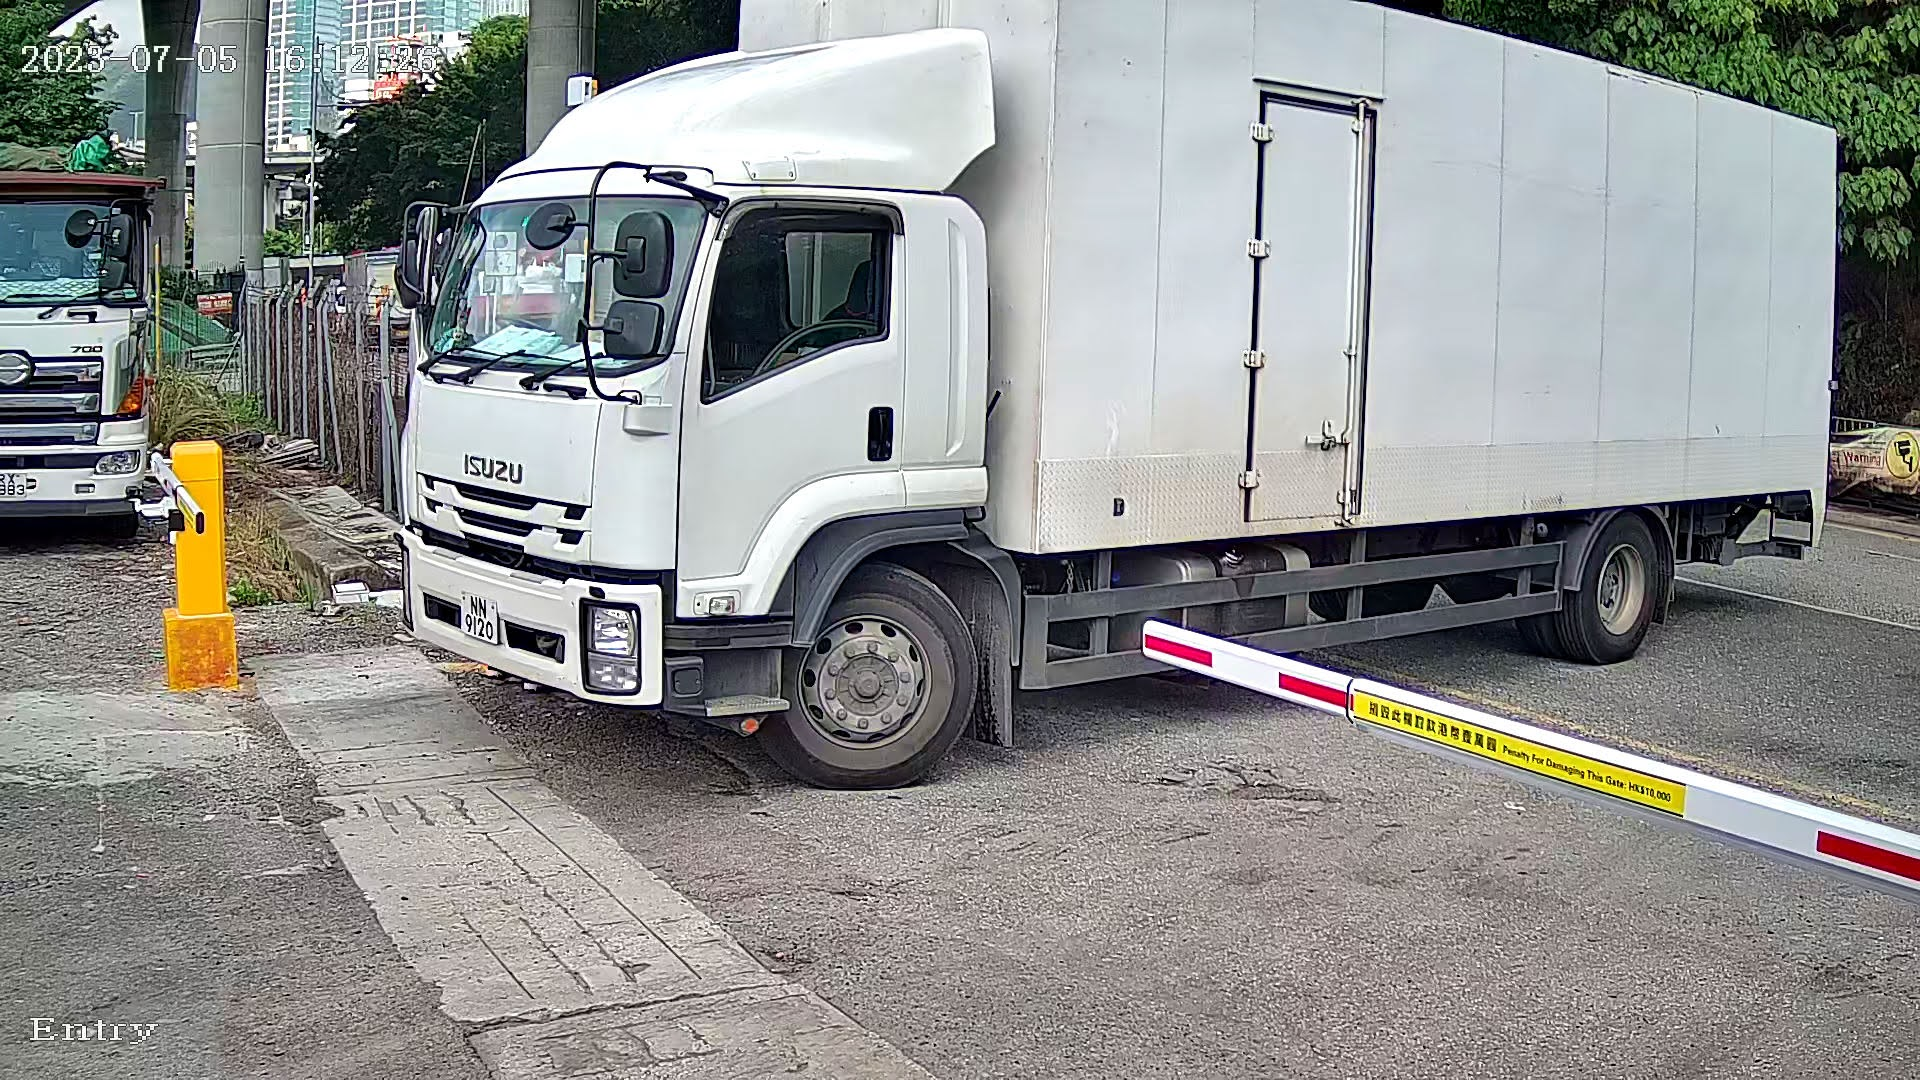truck: (355, 1, 1847, 810)
